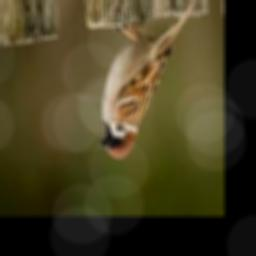Sparrow: (100, 0, 197, 159)
